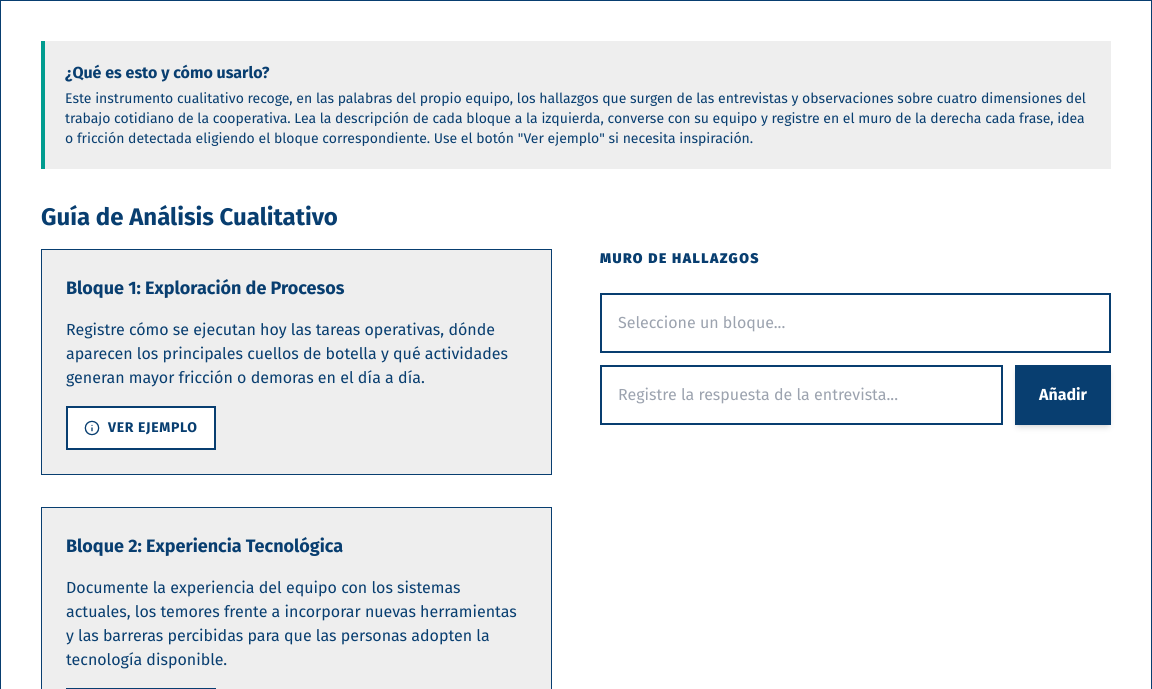
Test: TabAnalisis - muro de hallazgos con bloque › el botón Añadir arranca deshabilitado y se habilita con bloque + texto
This screenshot has width=1152, height=689.
Check: the button "Añadir" is disabled, box [1015,365,1111,425]
Note: Sólo texto: sigue deshabilitado
Type "Algo" into the field with placeholder "Registre la respuesta de la entrevista...".
click(802, 395); type("Algo")  # box [600,365,1003,425]
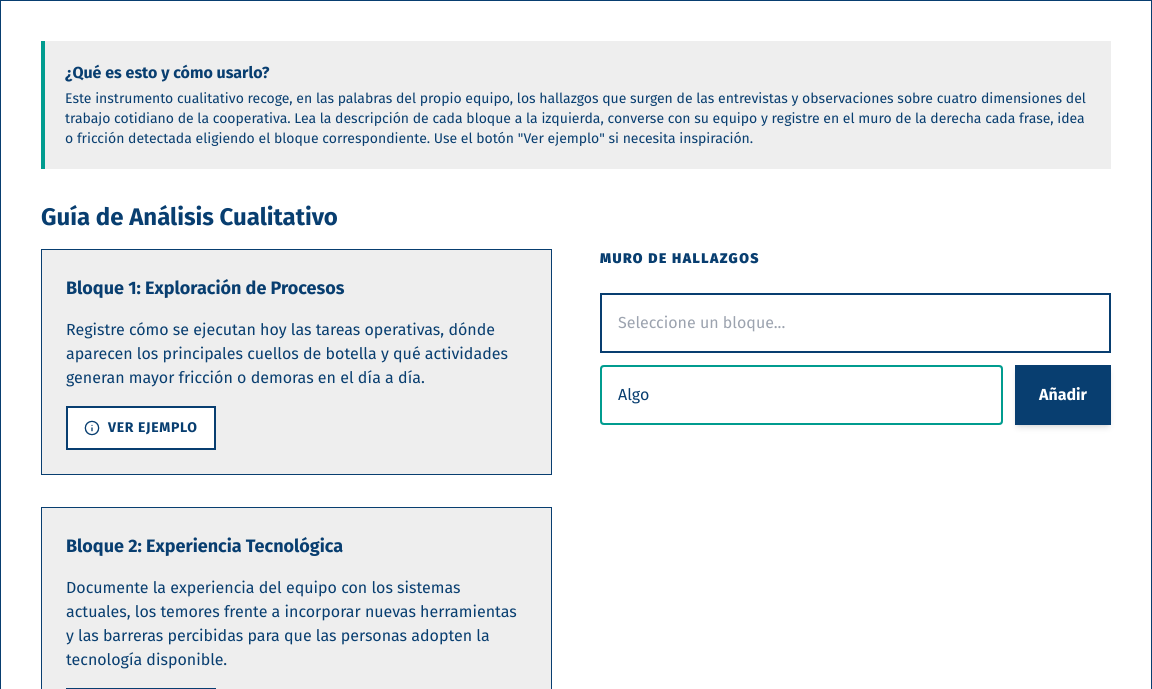
Check: the button "Añadir" is disabled, box [1015,365,1111,425]
Note: Seleccionar bloque desde el combobox
Click the dropdown labelled "Seleccione un bloque...".
click(856, 323)  # box [600,293,1111,353]
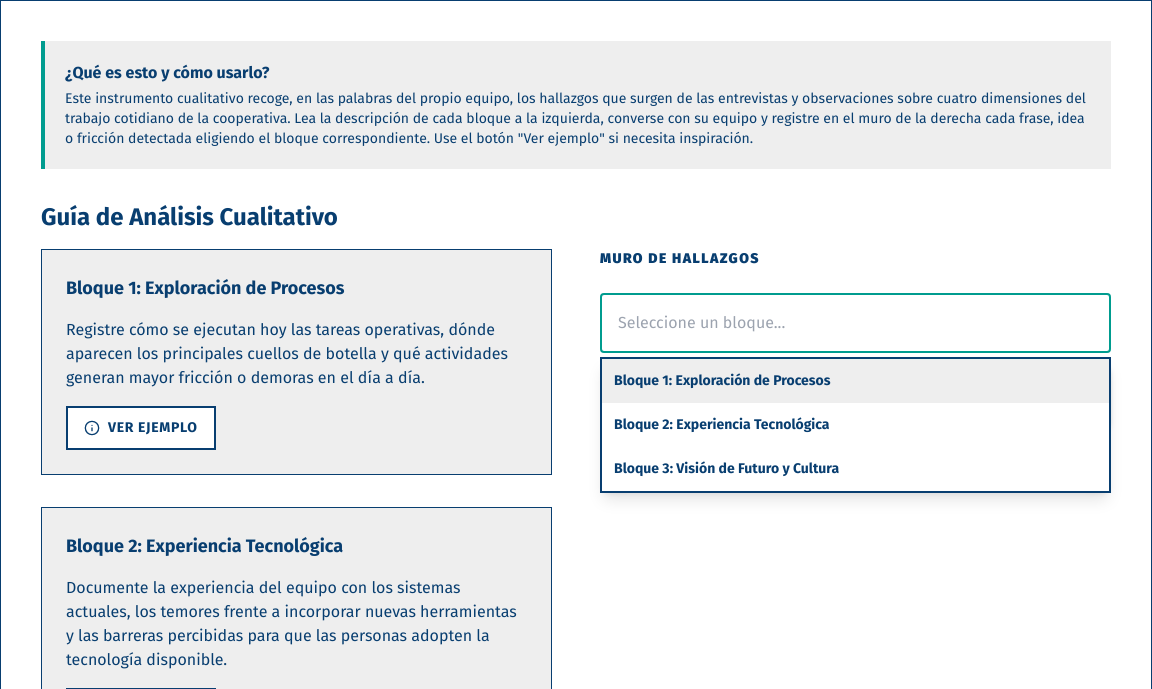
Click the option "Bloque 1: Exploración de Procesos".
click(722, 380)  # box [602,359,1109,403]
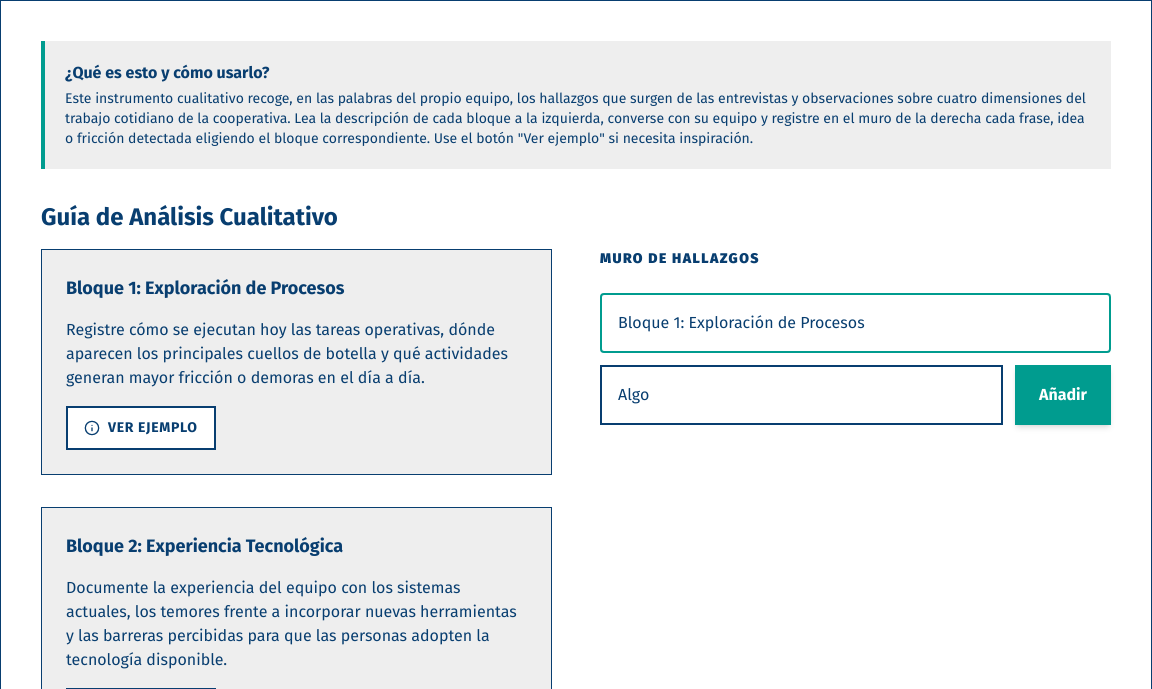
Check: the button "Añadir" is enabled, box [1015,365,1111,425]
